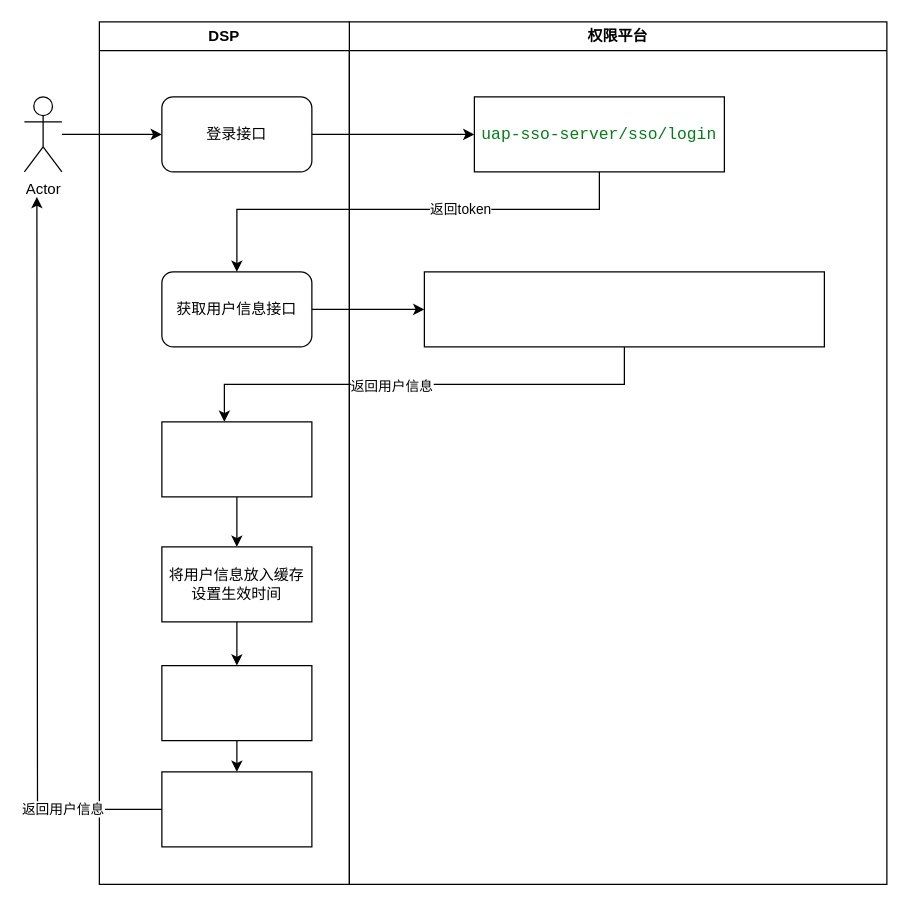
This 909x906 diagram has some shape labels left out. Here are the shapes that lost their labels. From the top down, the box of each, then its label:
(423, 271, 824, 347): /uap-authority/user/getUserDtoByToken
(161, 421, 312, 497): 封装用户信息
(161, 664, 312, 741): 校验手机验证码（根据配置可选）
(161, 771, 312, 847): 插入/更新 dsp_user表
